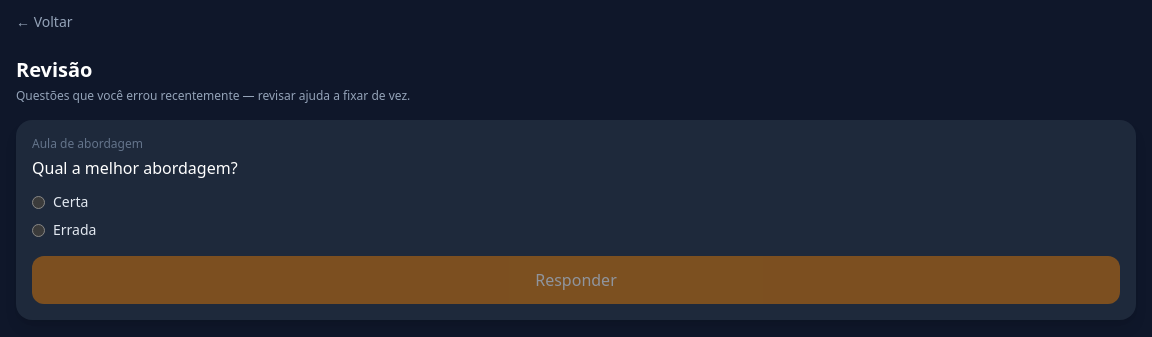
Test: Revisao › nunca expõe o gabarito antes de responder, e mostra o resultado real do backend depois
The width and height of the screenshot is (1152, 337).
Expected: the text "Qual a melhor abordagem?" is shown, [32,157,238,179]
Expected: the button "Responder" is disabled, [32,256,1120,304]
Step 1. Click the radio button labelled "Certa" → click(38, 202), box [32,196,45,208]
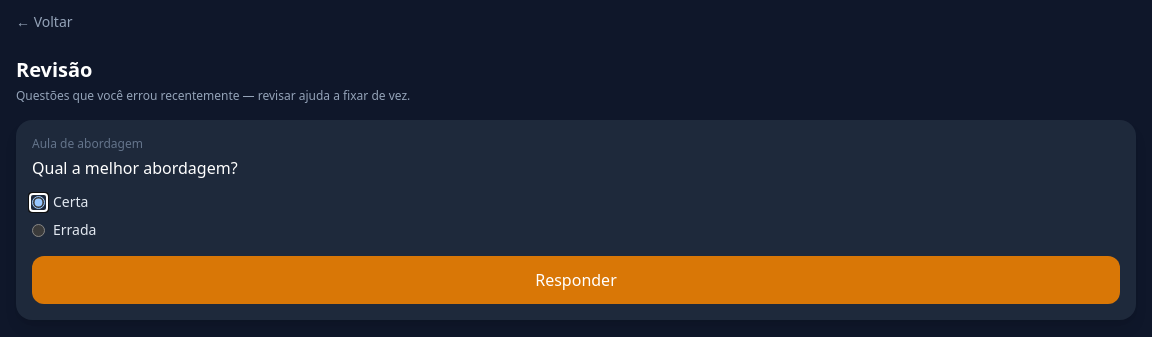
Now the button "Responder" is enabled
Step 2. Click the button "Responder" → click(576, 280), box [32,256,1120,304]
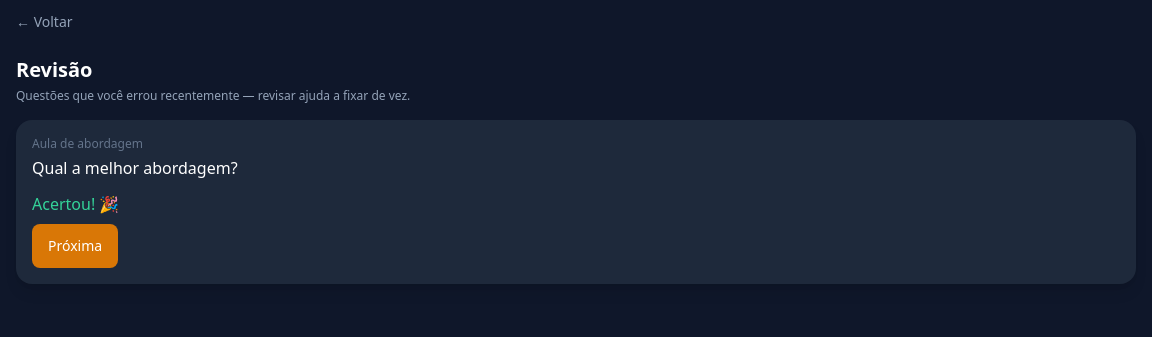
Now the text "Acertou! 🎉" is shown, box [32,193,119,215]
